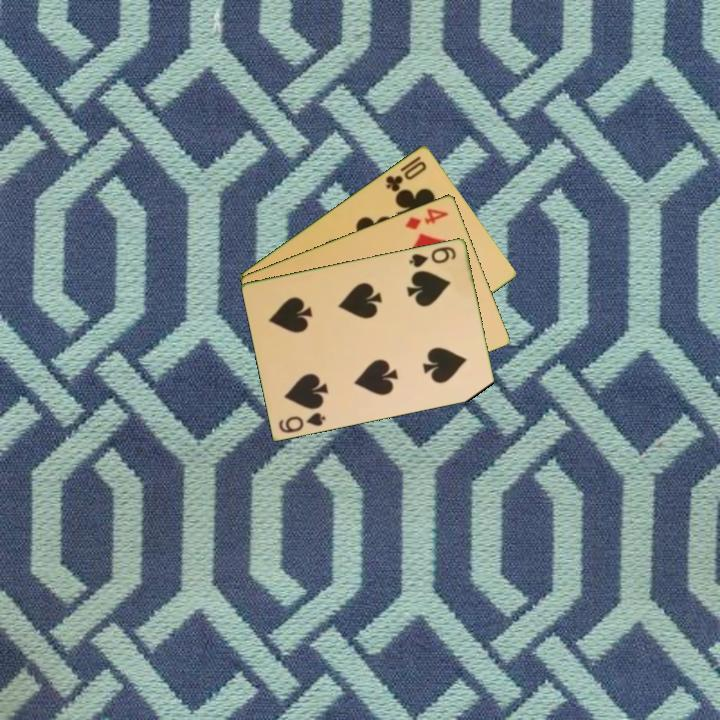10c: (382, 157, 430, 194)
4d: (402, 204, 451, 233)
6s: (275, 408, 329, 436), (406, 243, 459, 270)
